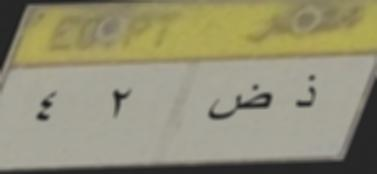2: (107, 83, 135, 123)
4: (28, 88, 63, 130)
daad: (204, 84, 276, 126)
zaal: (288, 67, 322, 117)
